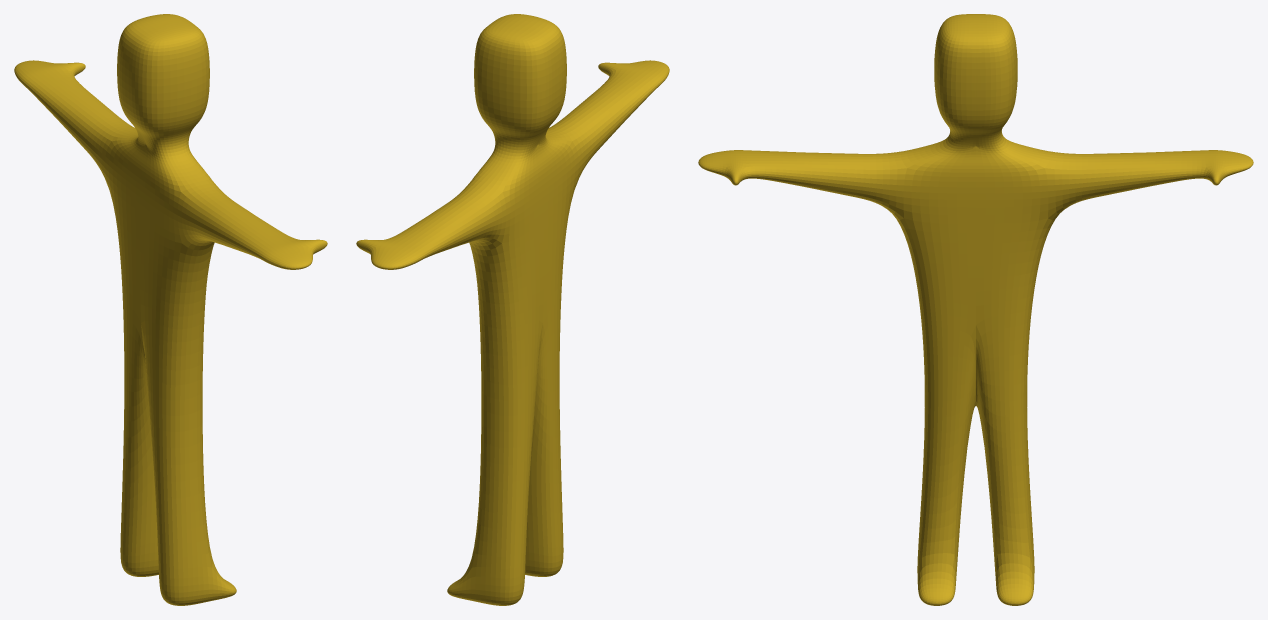
Rendered from character.obj.
3 renders of one model, left to right at view 1: azimuth 30°, elevation 25°; view 2: azimuth 150°, elevation 25°; view 3: azimuth 270°, elevation 25°, orthographic.
Visible parts, largest first — view 1: Cube; view 2: Cube; view 3: Cube.
Part boxes in pixels (x1=…): Cube: x1=14, y1=14, x2=327, y2=605; Cube: x1=356, y1=14, x2=669, y2=605; Cube: x1=698, y1=14, x2=1253, y2=605.
Size of the model in its own units: 0.4838 by 2.99 by 2.68.
